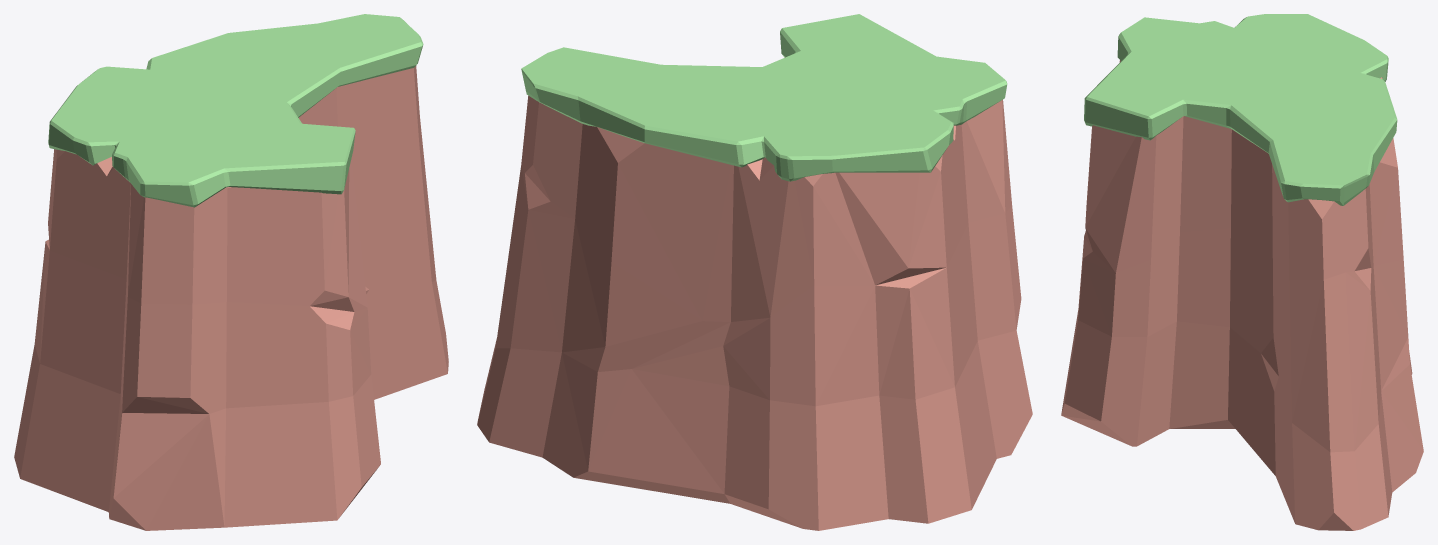
The model's file is Plane_001_Vlad.fbx.
The picture shows the model from 3 angles, left to right: view 1: azimuth 30°, elevation 25°; view 2: azimuth 150°, elevation 25°; view 3: azimuth 270°, elevation 25°; orthographic projection. The views are drawn at different scales.
Visible parts, largest first — view 1: Plane.001; view 2: Plane.001; view 3: Plane.001.
Boxes of the visible parts, box(x1,y1,x2,y2) form: Plane.001: box(14, 14, 448, 530); Plane.001: box(477, 14, 1032, 530); Plane.001: box(1061, 14, 1423, 530).
Size of the model in its own units: 974 by 716 by 717.
